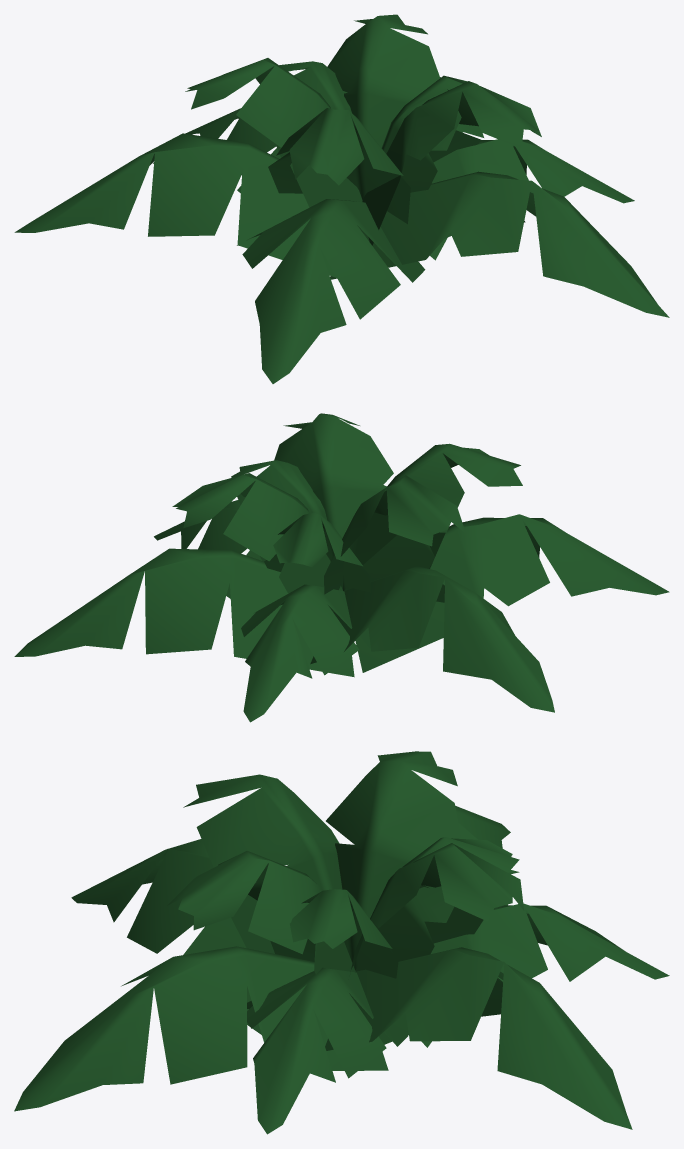
Rendered from LeafJagged1.fbx.
The picture shows the model from 3 angles, top to bottom: view 1: azimuth 30°, elevation 25°; view 2: azimuth 150°, elevation 25°; view 3: azimuth 270°, elevation 25°; orthographic projection. The views are drawn at different scales.
Parts seen in each view (by area): view 1: LeafJagged24; view 2: LeafJagged24; view 3: LeafJagged24.
Boxes of the visible parts, left/top/right/bottom form: LeafJagged24: left=14, top=14, right=669, bottom=383; LeafJagged24: left=14, top=413, right=669, bottom=722; LeafJagged24: left=14, top=751, right=669, bottom=1134.
Bounding box in the file's own units: 3.05 × 1.2 × 2.94.
